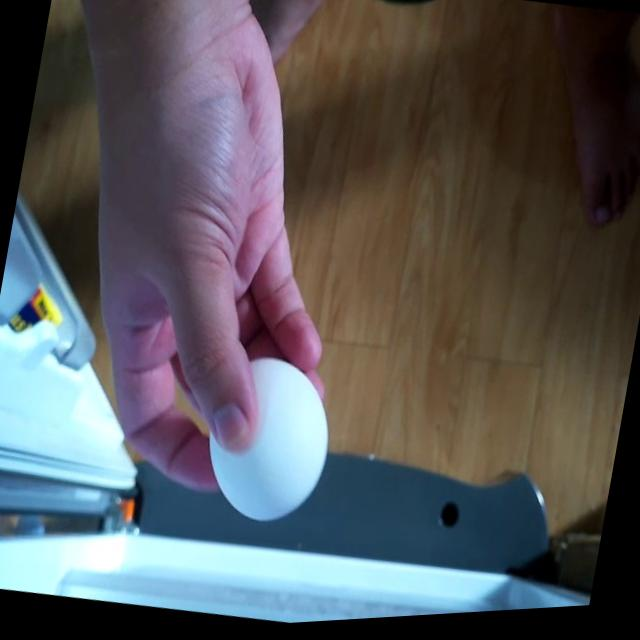egg: (193, 342, 348, 543)
